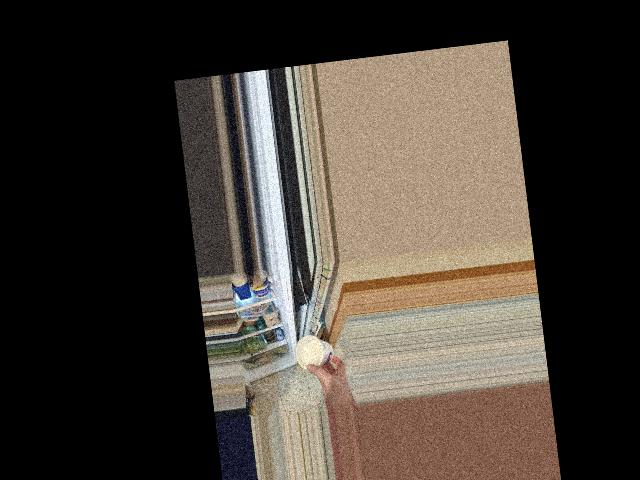cotage: (295, 332, 335, 369)
